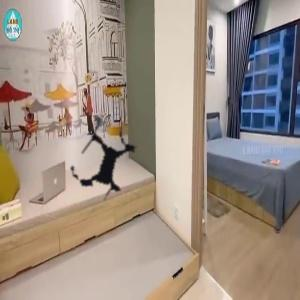drone: (40, 98, 167, 225)
